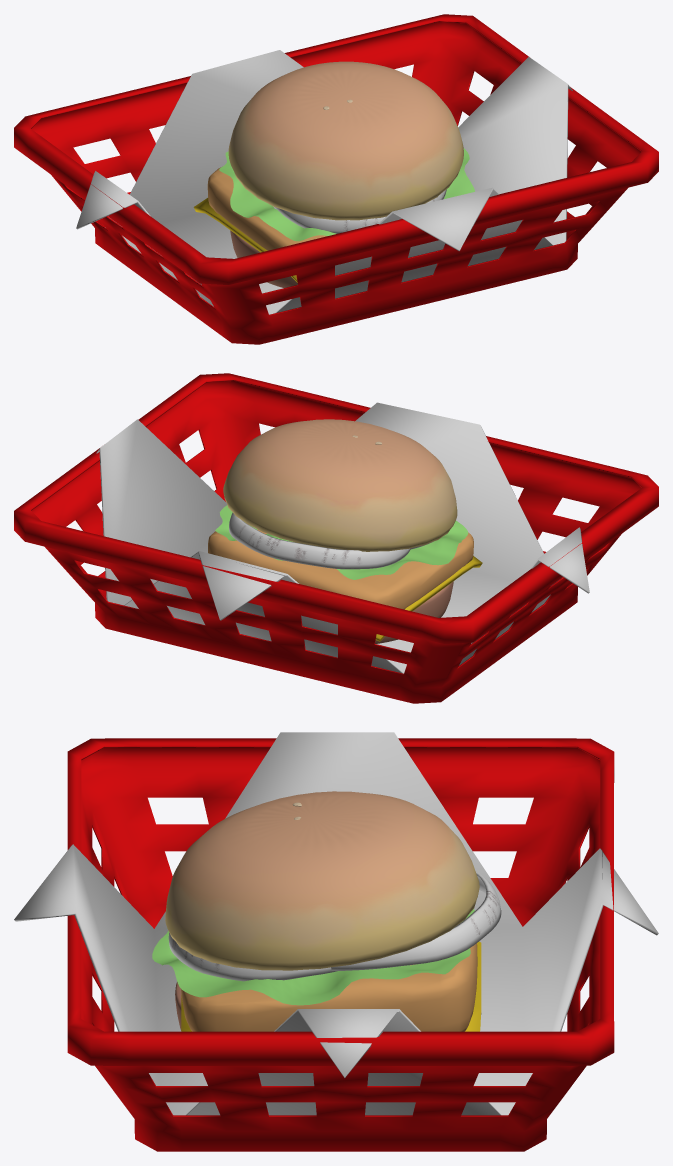
The model's file is FishFilletSandwich.fbx.
The picture shows the model from 3 angles, top to bottom: view 1: azimuth 30°, elevation 25°; view 2: azimuth 150°, elevation 25°; view 3: azimuth 270°, elevation 25°; orthographic projection. The views are drawn at different scales.
Visible parts, largest first — view 1: BurgerTray, BurgerTrayPaper, Topbun, Lettuce, FishFillet, Onion, Cheese, BottomBun; view 2: BurgerTray, BurgerTrayPaper, Topbun, FishFillet, Onion.001, Lettuce, BottomBun, Cheese; view 3: BurgerTray, BurgerTrayPaper, Topbun, FishFillet, Lettuce, Onion.001, Onion, Cheese.
Part boxes in pixels (<box>): BurgerTray: <box>14,14,658,344</box>; BurgerTrayPaper: <box>76,50,572,314</box>; Topbun: <box>228,61,463,220</box>; Lettuce: <box>219,148,474,241</box>; FishFillet: <box>207,167,327,250</box>; Onion: <box>273,189,446,233</box>; Cheese: <box>193,197,297,282</box>; BottomBun: <box>230,230,297,287</box>; BurgerTray: <box>14,373,658,703</box>; BurgerTrayPaper: <box>96,402,589,673</box>; Topbun: <box>223,419,457,551</box>; FishFillet: <box>208,529,473,609</box>; Onion.001: <box>229,512,410,569</box>; Lettuce: <box>215,505,468,579</box>; BottomBun: <box>375,581,453,643</box>; Cheese: <box>375,556,482,641</box>; BurgerTray: <box>67,738,614,1151</box>; BurgerTrayPaper: <box>14,732,658,1115</box>; Topbun: <box>165,791,479,970</box>; FishFillet: <box>181,943,477,1031</box>; Lettuce: <box>152,909,474,1005</box>; Onion.001: <box>331,871,501,970</box>; Onion: <box>168,932,337,981</box>; Cheese: <box>181,941,481,1031</box>.
Bounding box in the file's own units: 89.14 × 28.75 × 73.87.
Materials: 16 (16 with a texture image).
